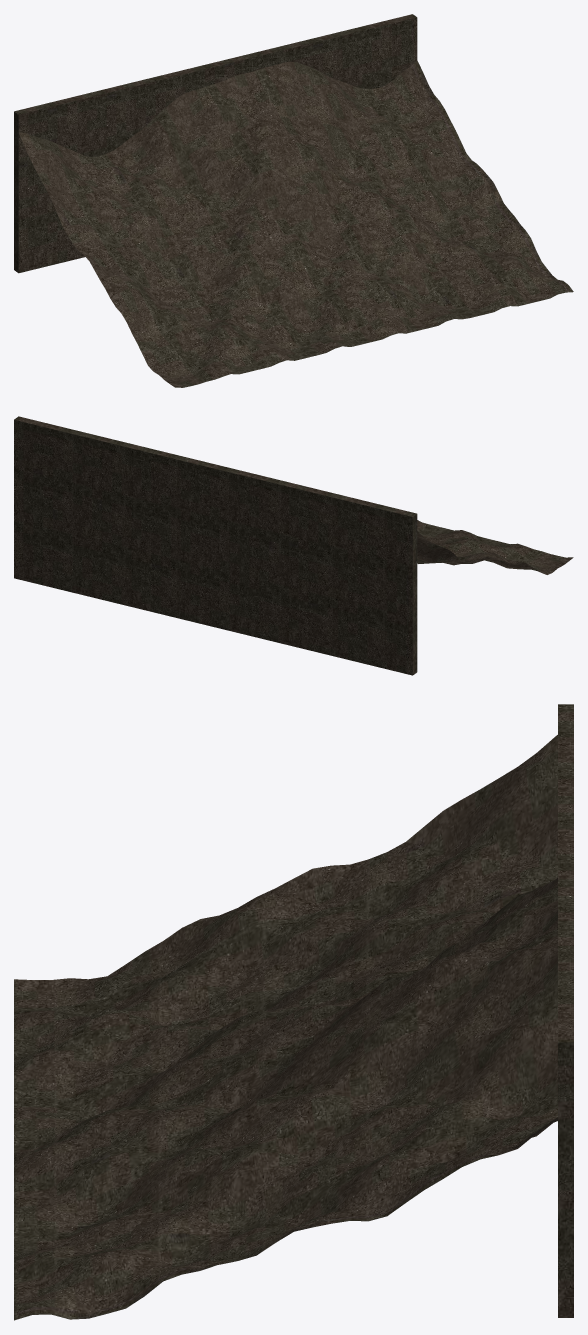
The model's file is earth_bank.glb.
3 renders of one model, top to bottom at view 1: azimuth 30°, elevation 25°; view 2: azimuth 150°, elevation 25°; view 3: azimuth 270°, elevation 25°, orthographic. The views are drawn at different scales.
Parts seen in each view (by area): view 1: earth_bank_Earth; view 2: earth_bank_Earth; view 3: earth_bank_Earth.
Part boxes in pixels (<box>): earth_bank_Earth: <box>14,14,573,387</box>; earth_bank_Earth: <box>14,416,573,675</box>; earth_bank_Earth: <box>14,704,573,1320</box>.
Size of the model in its own units: 10 by 3.85 by 7.
Materials: 1 (1 with a texture image).
